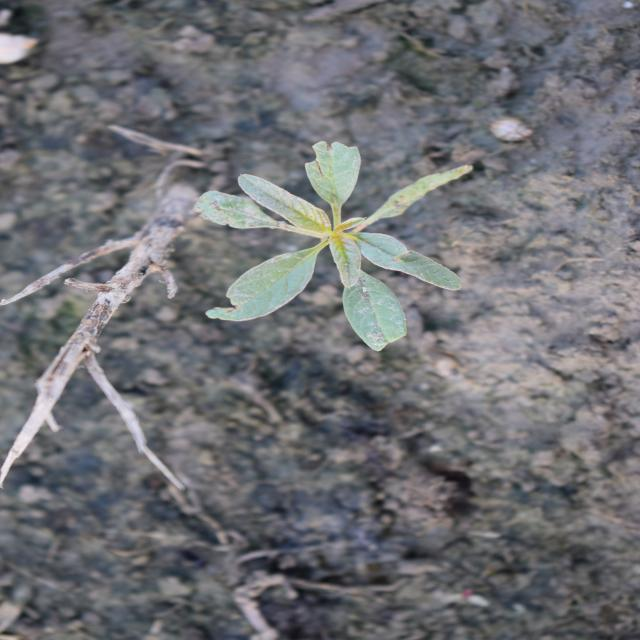Waterhemp: (190, 138, 476, 355)
